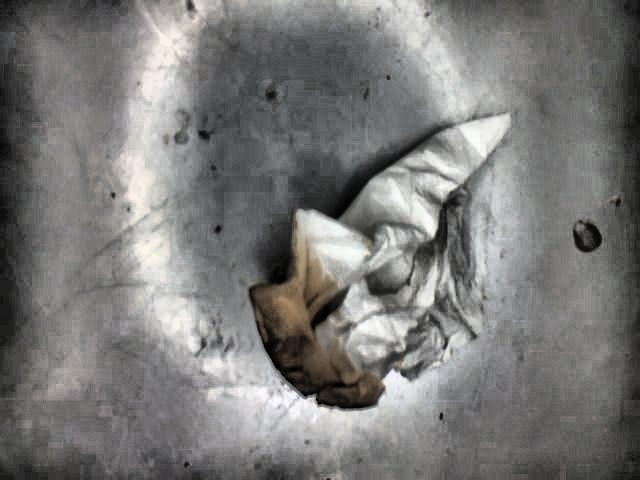Paper: (247, 114, 515, 408)
